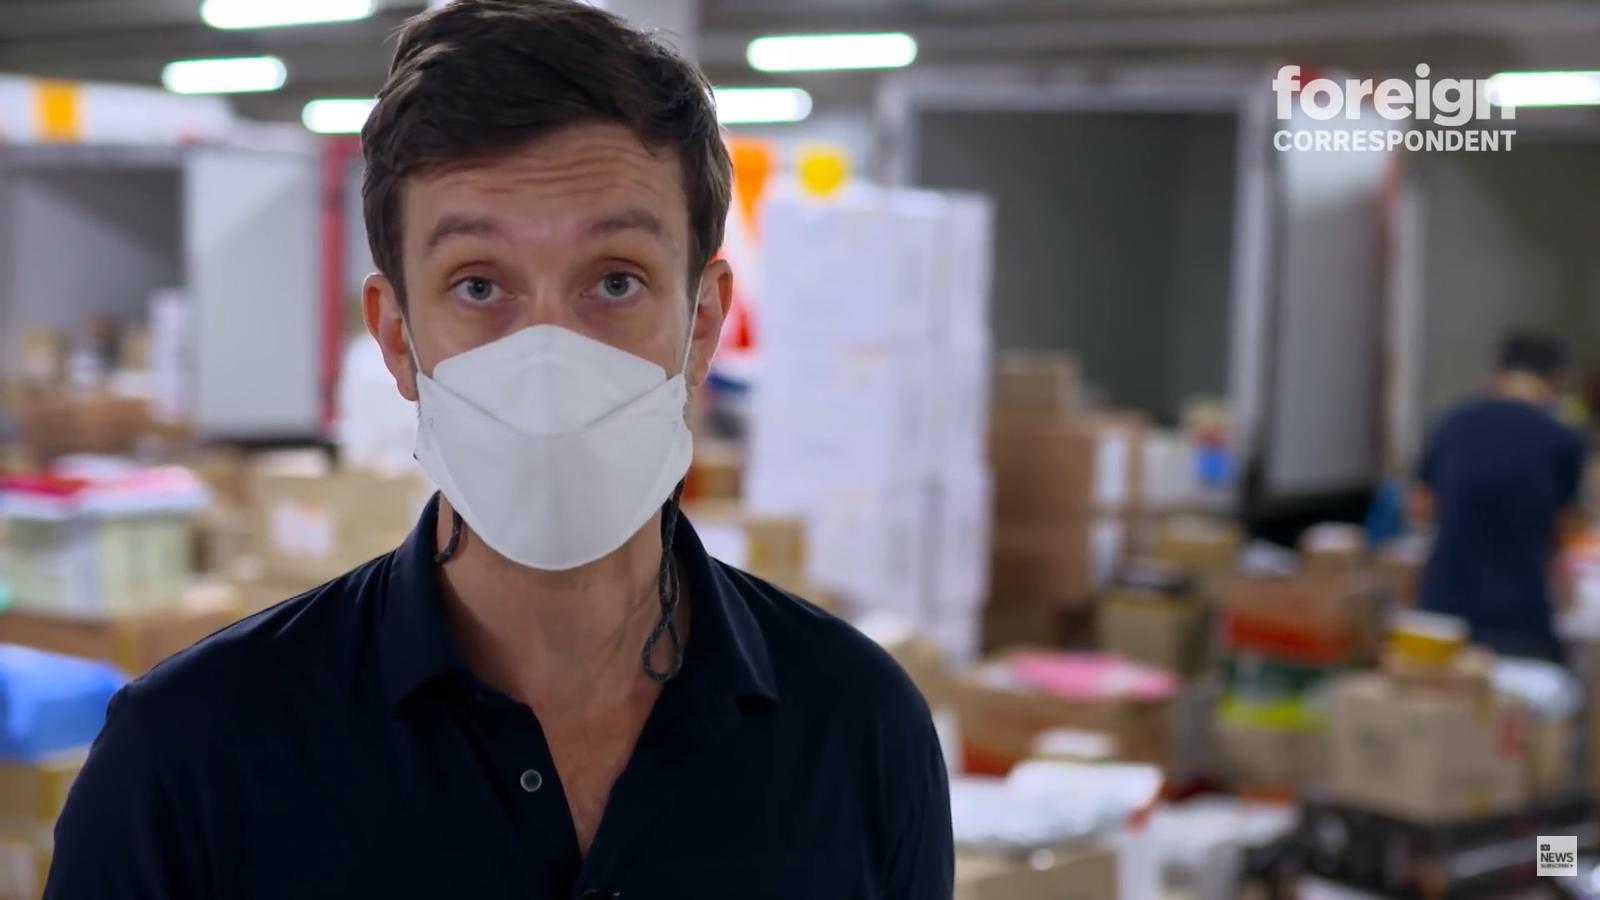with_mask: (443, 204, 662, 495)
